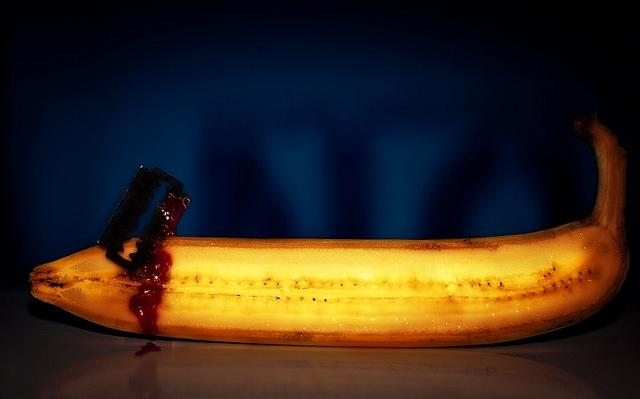banana: (29, 120, 624, 348)
